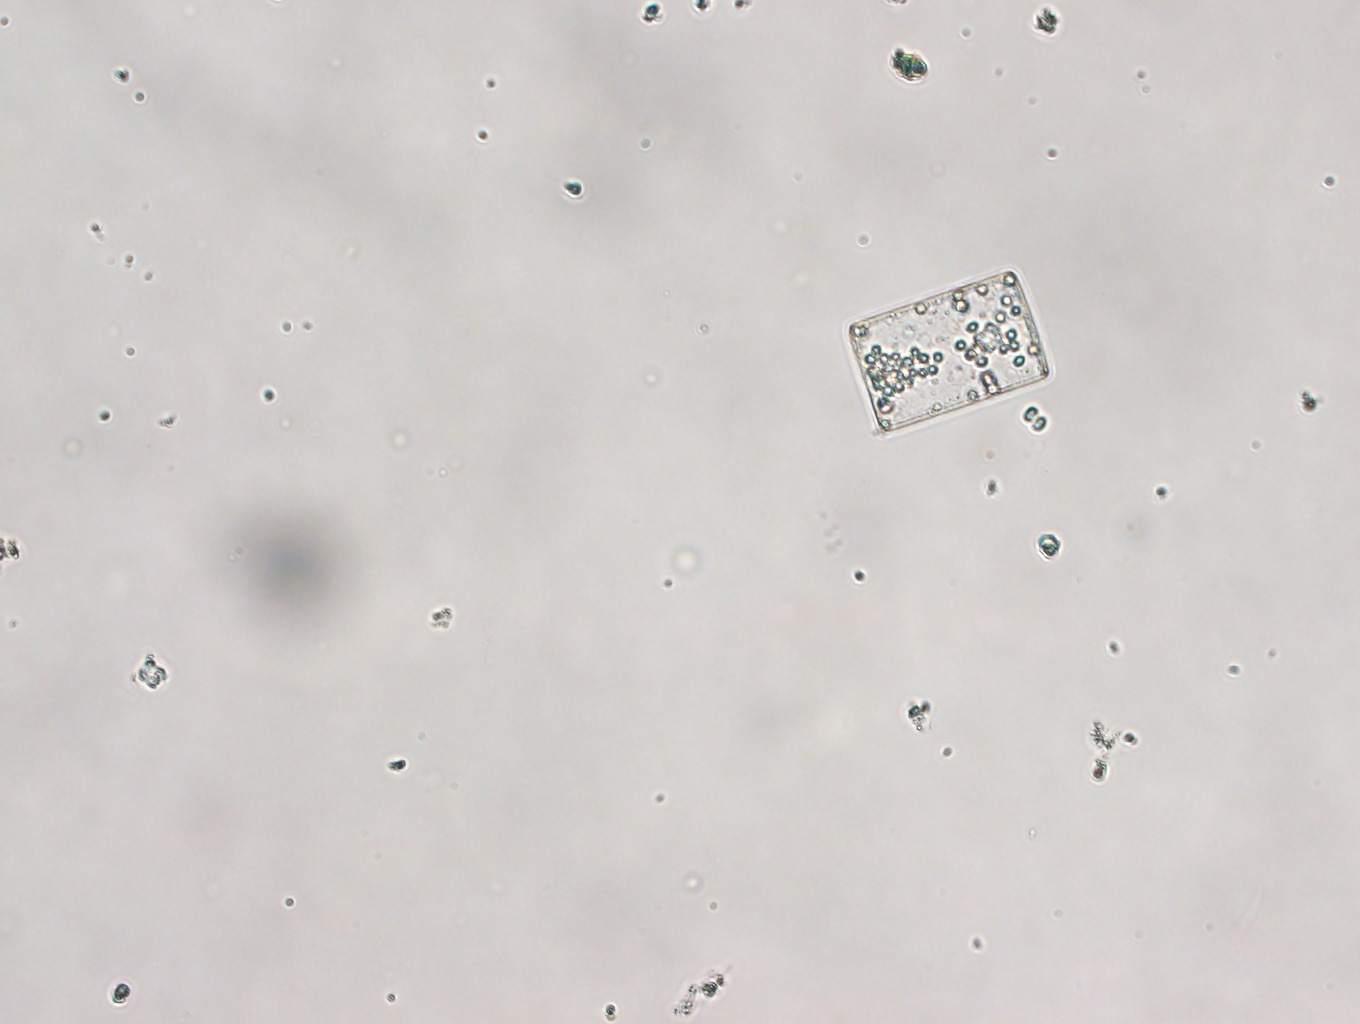guinardia flaccida: (839, 267, 1057, 440)
